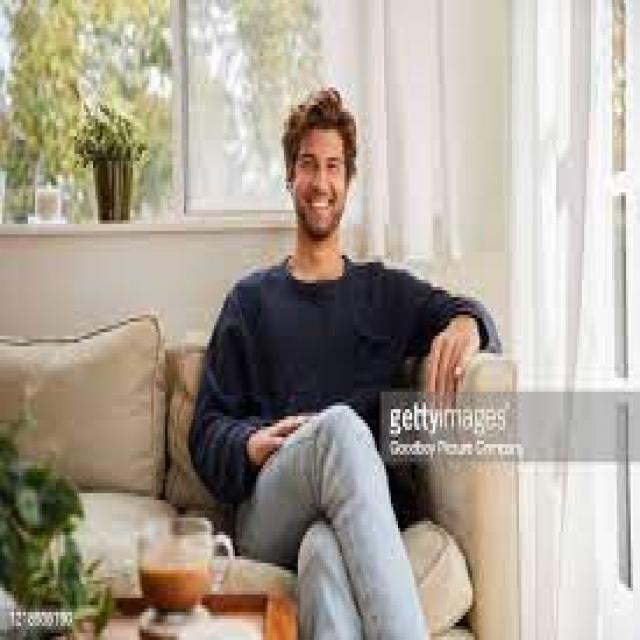sitting: (180, 75, 501, 638)
